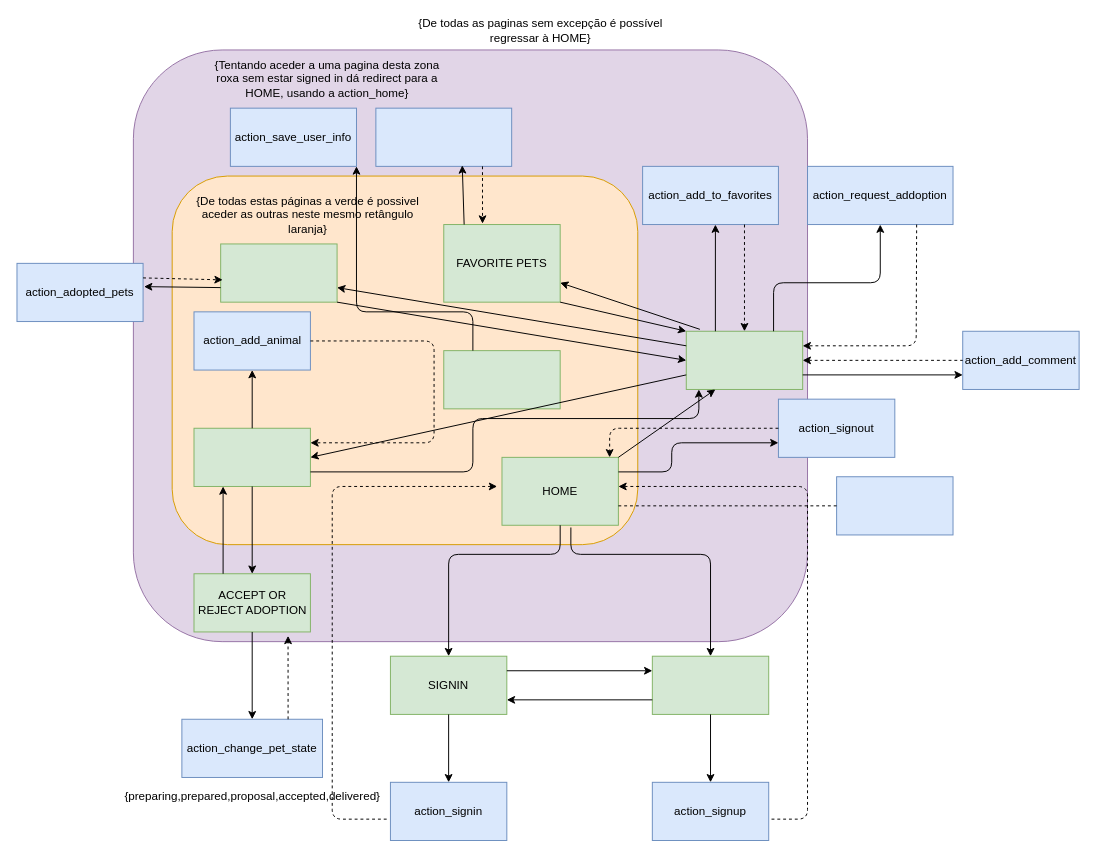
Image size: 1096x857. Some labels were removed from this diagram. Here are the shapes that lost their labels. From the top down, the centre of each, then its label:
At pixel 443 136: "action_remove_favorite".
At pixel 278 272: "ADOPTED PETS".
At pixel 501 379: "MY PAGE".
At pixel 744 359: "PET PAGE".
At pixel 251 456: "MY PETS".
At pixel 894 505: "action_search_pets".
At pixel 710 684: "SIGNUP".
